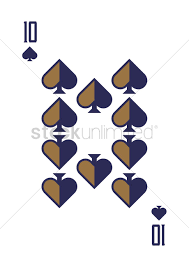ten of spades: (9, 11, 176, 257)
